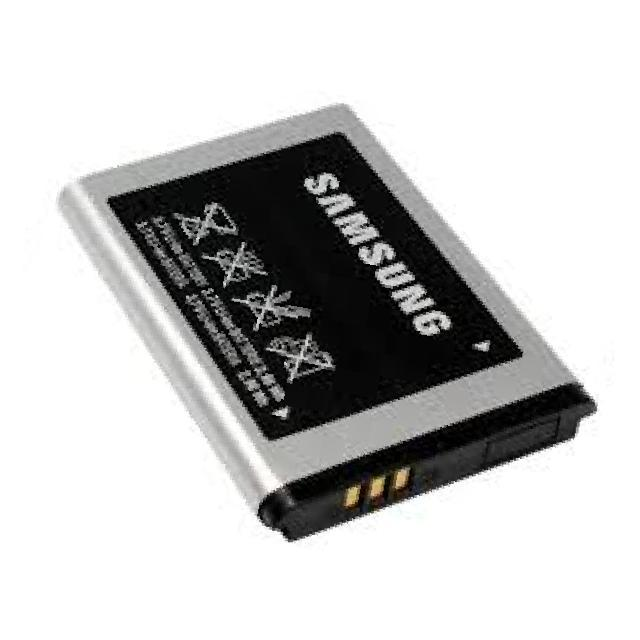Battery: (42, 89, 610, 543)
